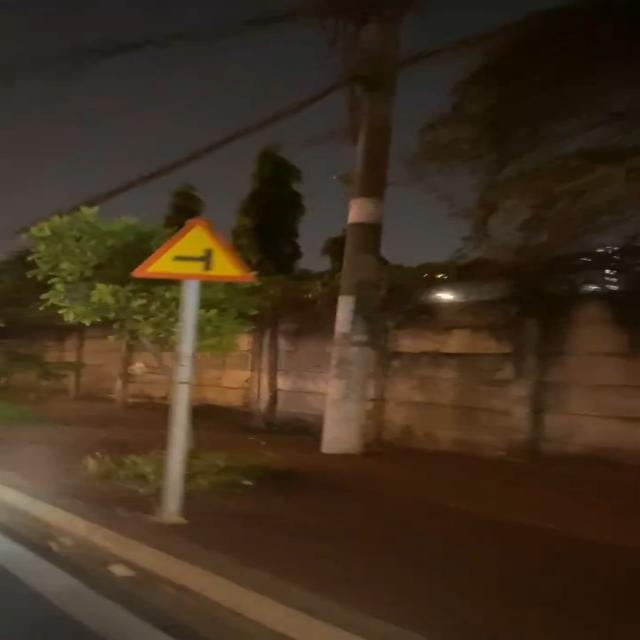205-duong-giao-nhau: (126, 214, 262, 284)
